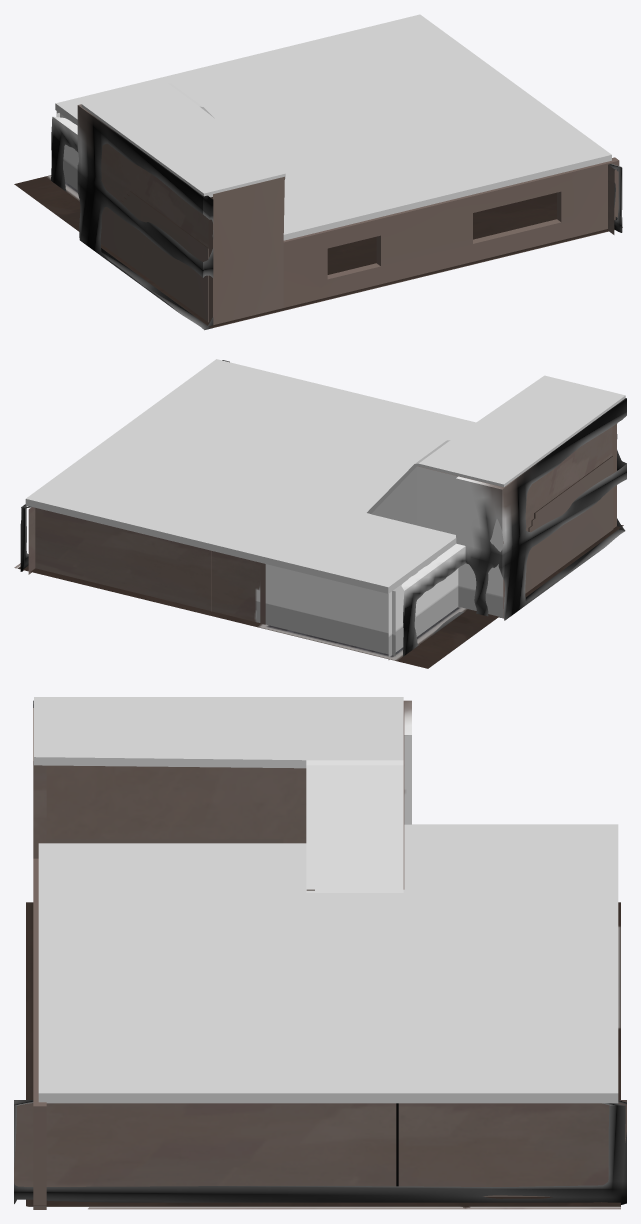
Rendered from this is the final ver of the house.fbx.
3 views of the same model, one above another, from view 1: azimuth 30°, elevation 25°; view 2: azimuth 150°, elevation 25°; view 3: azimuth 270°, elevation 25° (orthographic). The views are drawn at different scales.
Parts seen in each view (by area): view 1: roof, back wall, left wall, roof 2, flor, stairs, right wall; view 2: roof, front wall, left wall, roof 2, bathroom wall, stairs, flor, right wall; view 3: roof, right wall, roof 2, back wall, flor, left wall, stairs.
Boxes of the visible parts, left/top/right/bottom form: roof: left=55, top=14, right=611, bottom=240; back wall: left=208, top=157, right=619, bottom=327; left wall: left=51, top=104, right=213, bottom=330; roof 2: left=81, top=83, right=285, bottom=197; flor: left=14, top=175, right=622, bottom=327; stairs: left=100, top=191, right=208, bottom=322; right wall: left=608, top=164, right=622, bottom=234; roof: left=25, top=359, right=475, bottom=593; front wall: left=35, top=508, right=395, bottom=655; left wall: left=388, top=398, right=626, bottom=660; roof 2: left=367, top=375, right=625, bottom=513; bathroom wall: left=260, top=466, right=504, bottom=624; stairs: left=525, top=456, right=613, bottom=593; flor: left=14, top=525, right=623, bottom=668; right wall: left=20, top=360, right=229, bottom=574; roof: left=38, top=824, right=618, bottom=1103; right wall: left=14, top=1100, right=626, bottom=1204; roof 2: left=34, top=697, right=403, bottom=892; back wall: left=33, top=708, right=314, bottom=1209; flor: left=26, top=902, right=620, bottom=1209; left wall: left=33, top=700, right=411, bottom=858; stairs: left=46, top=839, right=283, bottom=843.
Bounding box in the file's own units: 1805 × 560 × 1504.
Materials: 1 (1 with a texture image).
